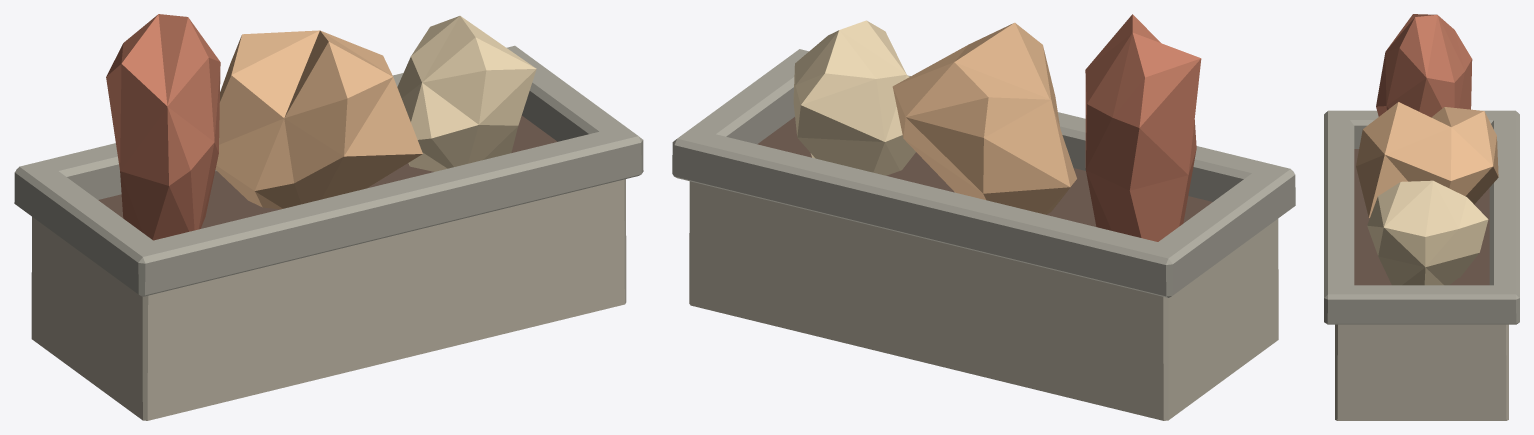
Rendered from planta_2.fbx.
The picture shows the model from 3 angles, left to right: view 1: azimuth 30°, elevation 25°; view 2: azimuth 150°, elevation 25°; view 3: azimuth 270°, elevation 25°; orthographic projection. The views are drawn at different scales.
Parts seen in each view (by area): view 1: caja_estructura, planta_naranja, planta_roja, planta_rosita; view 2: caja_estructura, planta_naranja, planta_roja, planta_rosita; view 3: caja_estructura, planta_naranja, planta_rosita, planta_roja.
Boxes of the visible parts, <box> form: caja_estructura: <box>14,45,643,420</box>; planta_naranja: <box>215,30,422,209</box>; planta_roja: <box>106,14,220,240</box>; planta_rosita: <box>397,16,536,171</box>; caja_estructura: <box>672,49,1295,420</box>; planta_naranja: <box>892,22,1076,214</box>; planta_roja: <box>1085,14,1201,241</box>; planta_rosita: <box>793,20,915,175</box>; caja_estructura: <box>1324,110,1519,420</box>; planta_naranja: <box>1356,102,1498,218</box>; planta_rosita: <box>1367,180,1488,285</box>; planta_roja: <box>1376,14,1472,117</box>.
Bounding box in the file's own units: 147 × 95.54 × 65.08.
